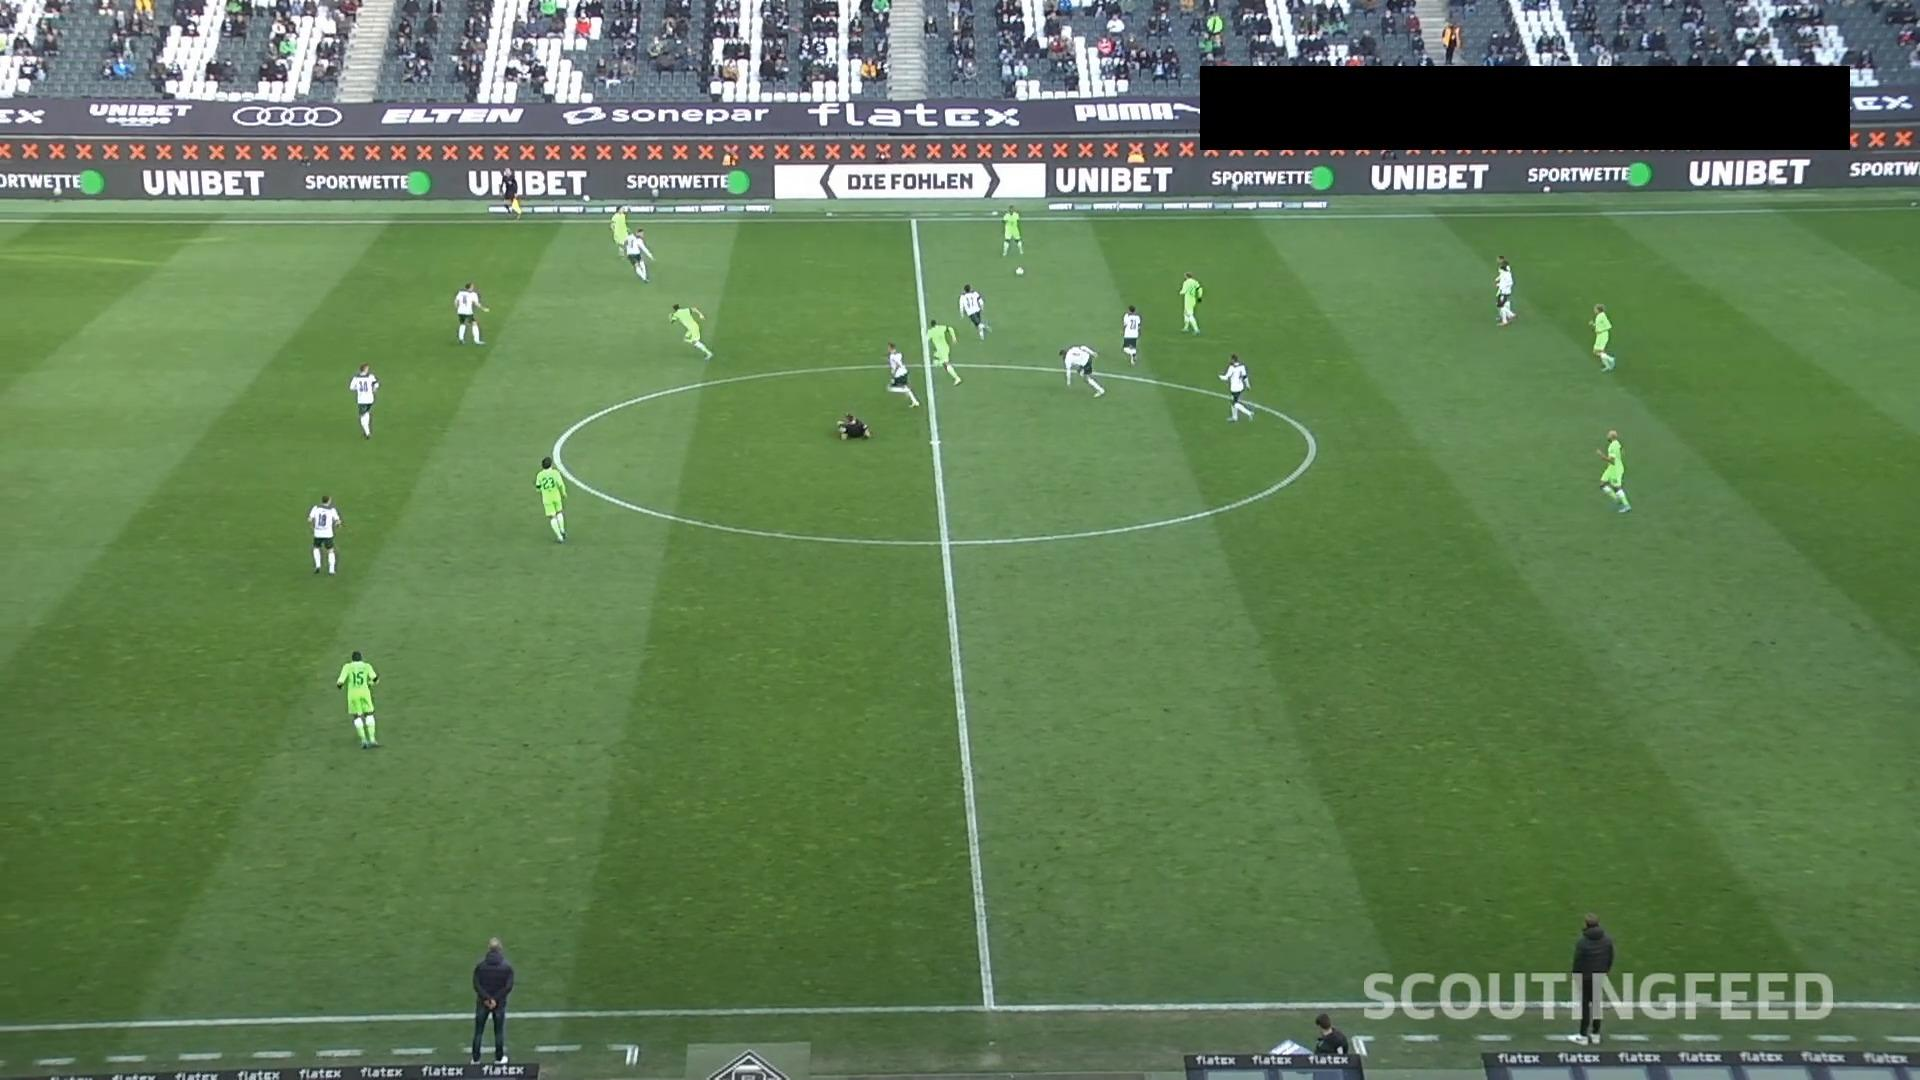ball: (1013, 266, 1024, 275)
coach: (1568, 911, 1614, 1042), (469, 937, 513, 1063)
player: (335, 649, 380, 749), (1594, 428, 1631, 513), (533, 455, 567, 543), (306, 494, 342, 575), (667, 302, 712, 359), (924, 318, 962, 385), (1058, 343, 1105, 397), (1217, 353, 1253, 422), (348, 362, 380, 438), (884, 342, 919, 408), (453, 281, 488, 345), (1587, 302, 1615, 372), (957, 282, 989, 340), (1493, 254, 1516, 326), (623, 227, 653, 282), (1177, 272, 1202, 334), (1120, 304, 1141, 366), (999, 204, 1023, 257), (609, 204, 630, 254), (885, 342, 905, 388)
referee: (1313, 1012, 1350, 1056), (836, 412, 874, 446), (499, 166, 521, 216)
